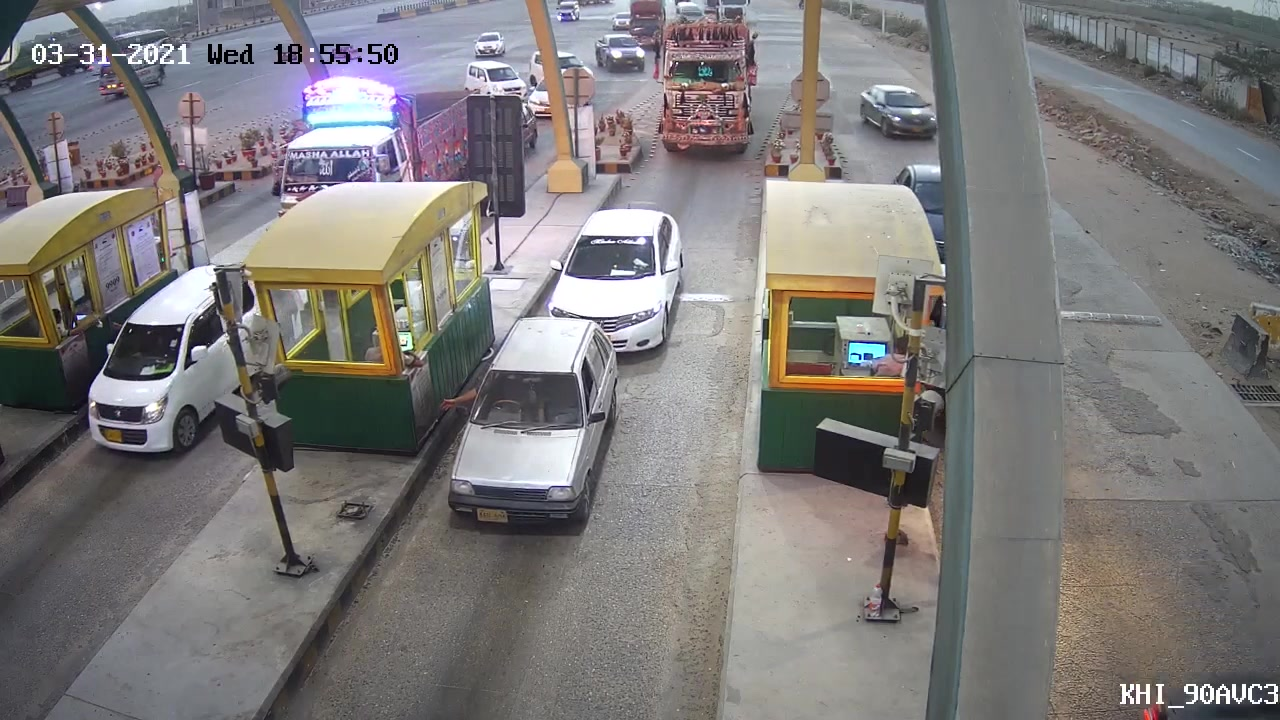F1: (440, 311, 617, 526), (540, 197, 690, 357)
